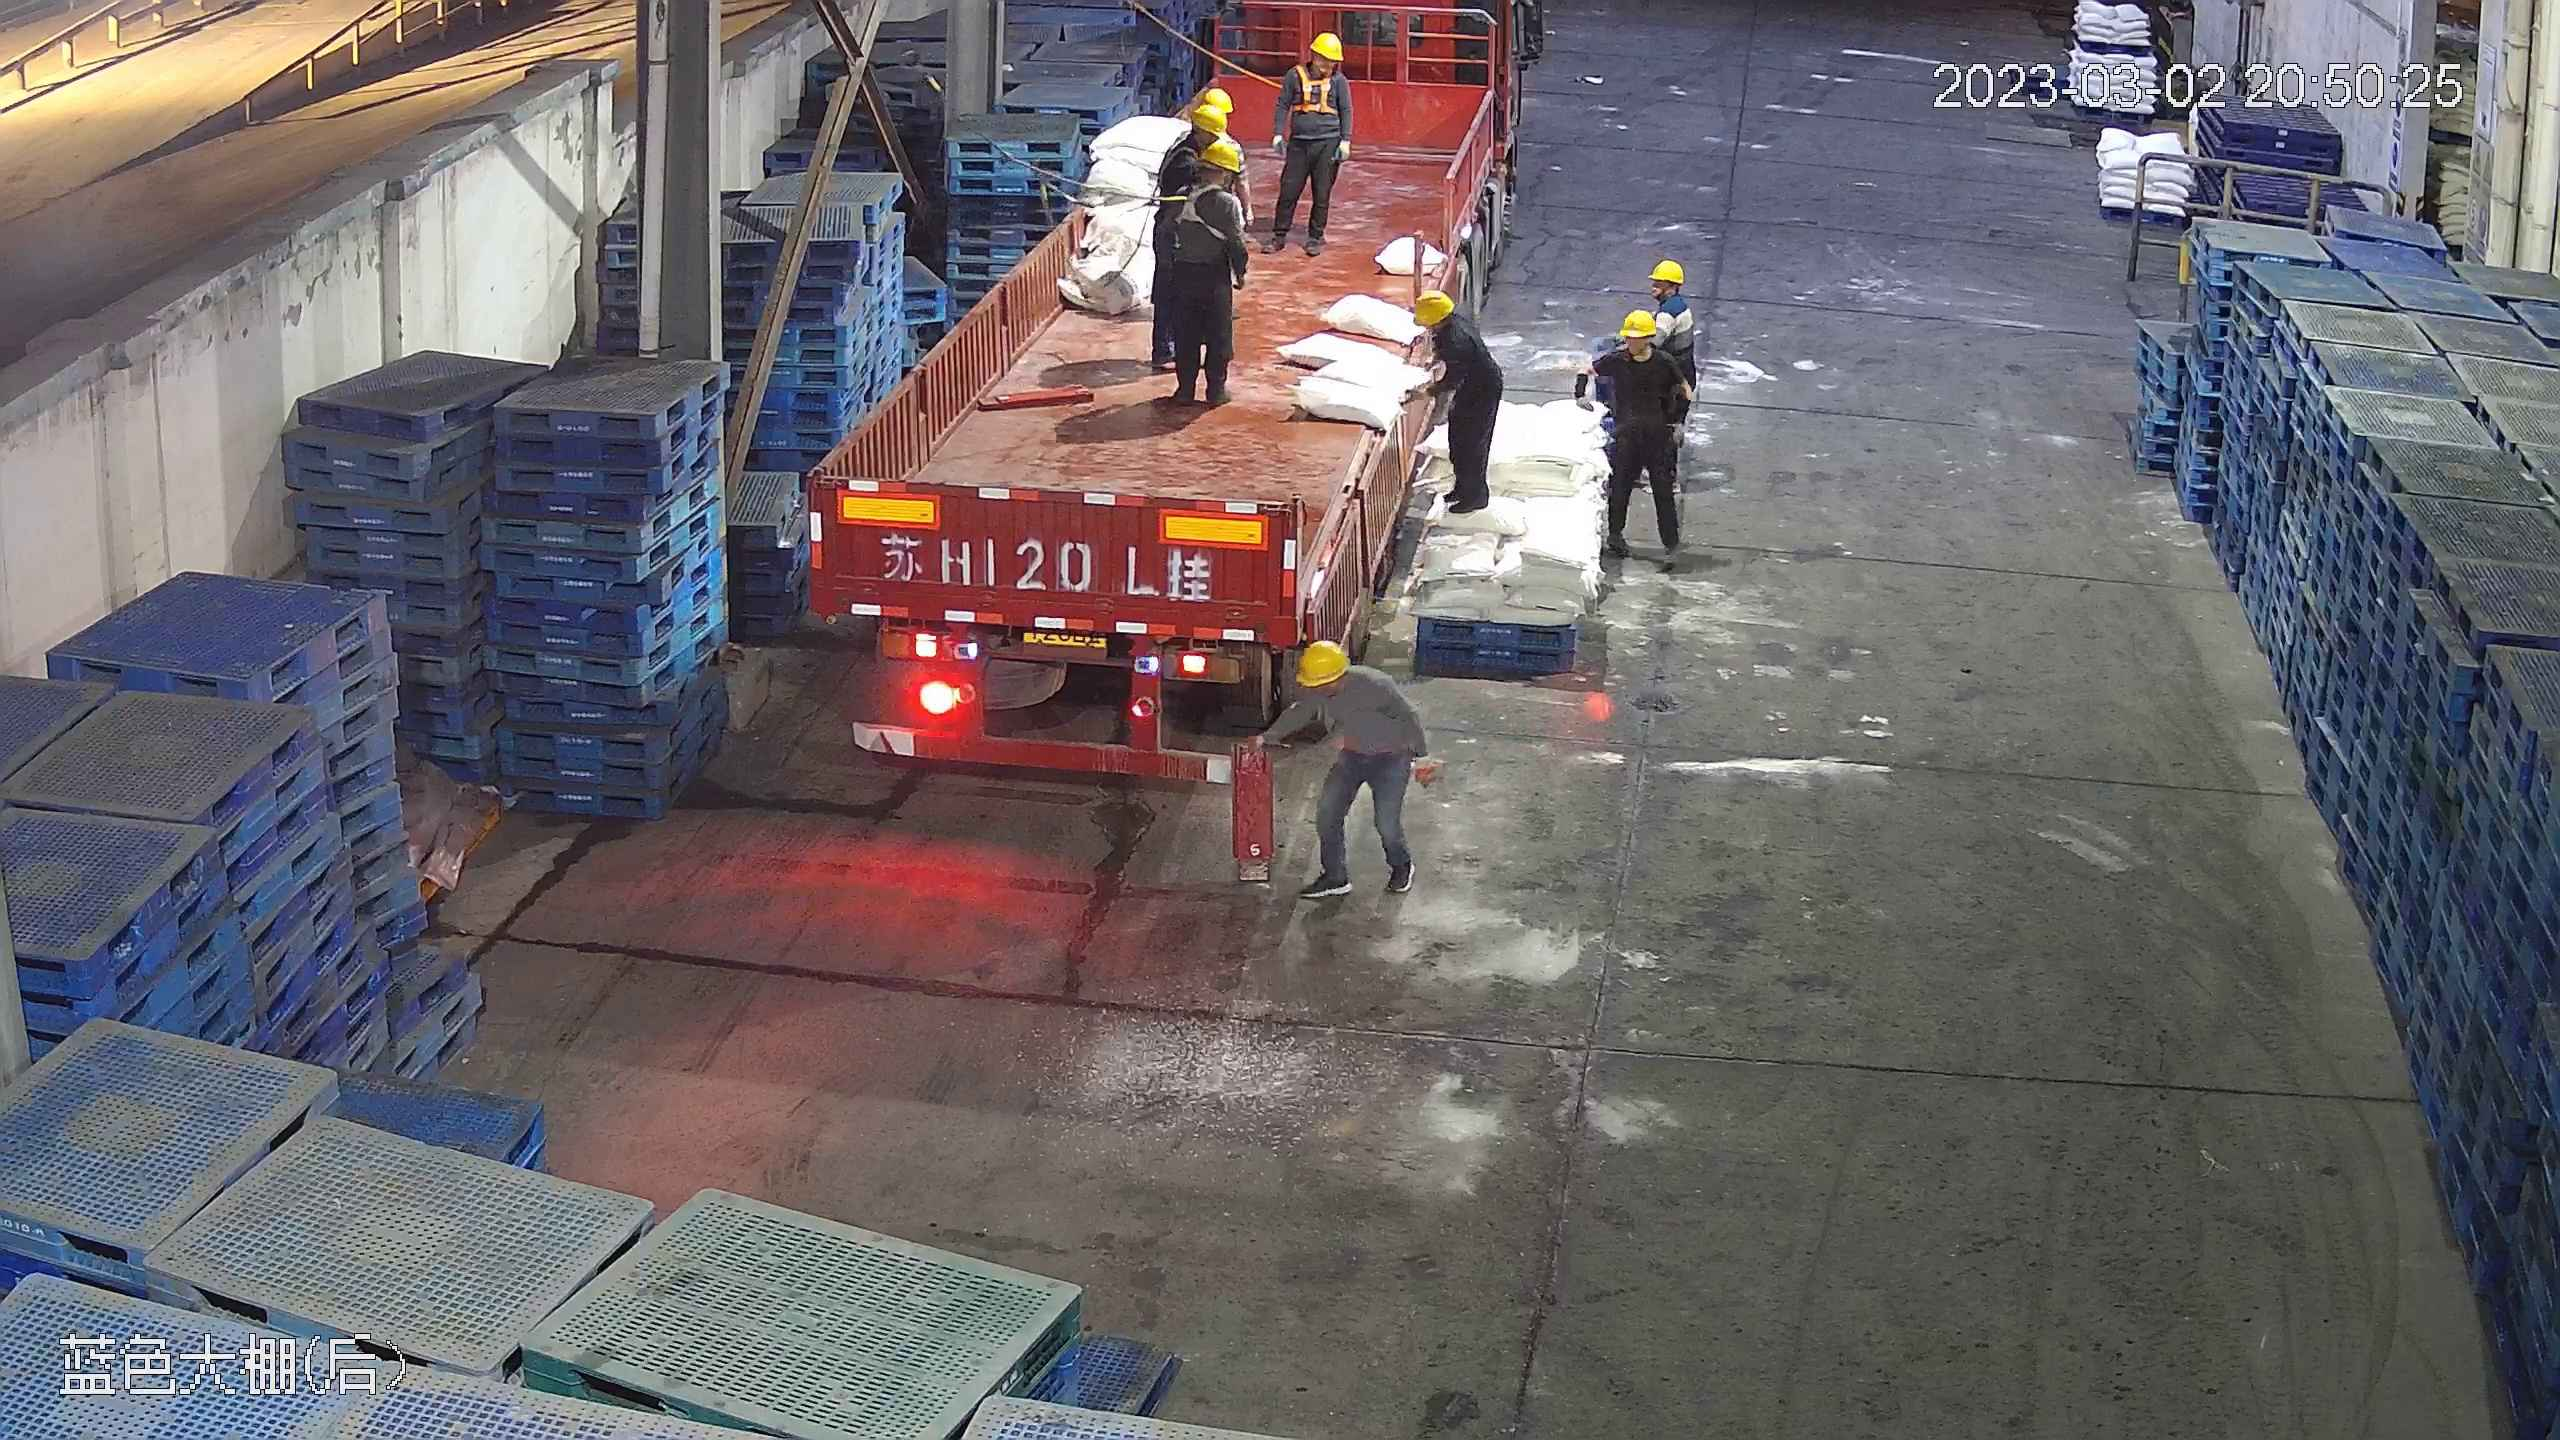belt: (1166, 174, 1237, 239), (1285, 64, 1340, 119), (1155, 139, 1197, 188)
head: (1293, 637, 1396, 733), (1412, 288, 1491, 371), (1597, 309, 1678, 386), (1160, 102, 1230, 190), (1165, 144, 1247, 220), (1281, 29, 1350, 94), (1644, 258, 1698, 331)
helmet: (1297, 638, 1347, 687), (1198, 140, 1244, 175), (1411, 287, 1454, 326), (1617, 307, 1659, 341), (1188, 102, 1227, 138), (1311, 29, 1348, 59), (1650, 257, 1687, 283), (1202, 86, 1235, 114)
people: (1282, 638, 1430, 899), (1585, 300, 1692, 577), (1150, 137, 1247, 402), (1410, 287, 1502, 513), (1271, 26, 1354, 258)
truck: (790, 28, 1519, 790)
